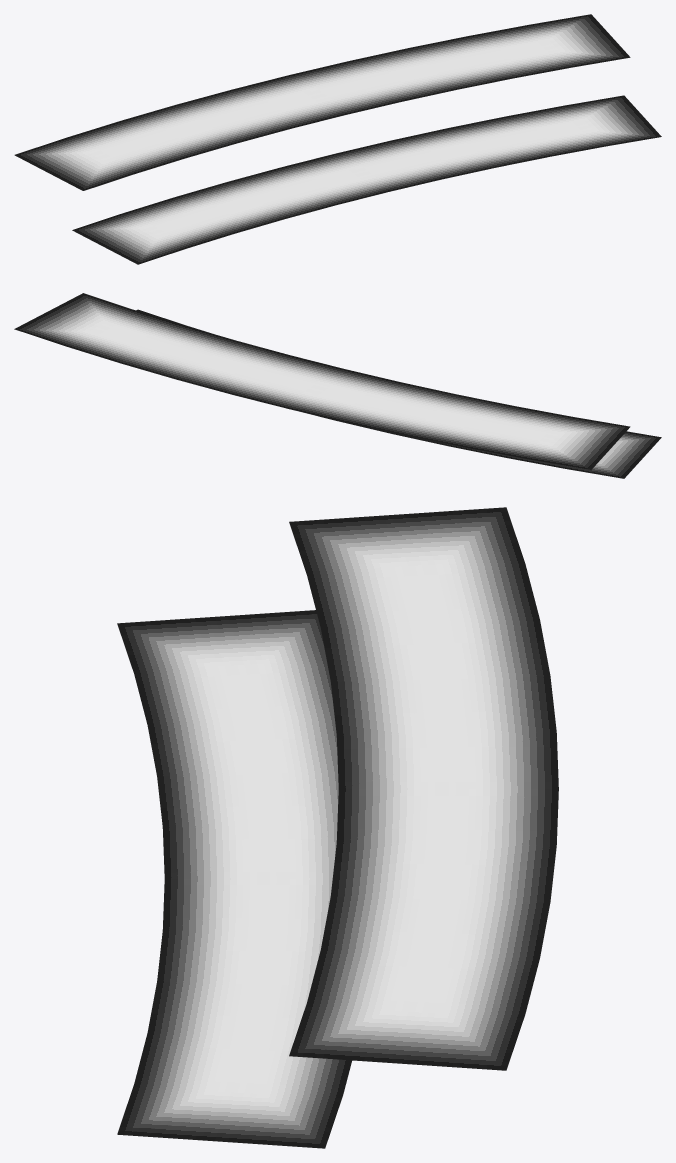
File: Radar.FBX
The picture shows the model from 3 angles, top to bottom: view 1: azimuth 30°, elevation 25°; view 2: azimuth 150°, elevation 25°; view 3: azimuth 270°, elevation 25°; orthographic projection. The views are drawn at different scales.
Visible parts, largest first — view 1: Sweep, Blip; view 2: Sweep, Blip; view 3: Sweep, Blip.
Boxes of the visible parts, x1,y1,x2,y2 form: Sweep: (14,14,630,190); Blip: (72,95,661,264); Sweep: (14,293,630,469); Blip: (136,309,661,478); Sweep: (289,507,558,1070); Blip: (117,610,352,1148).
Size of what is drawn, in the model's own units: 134 by 10 by 44.48.
